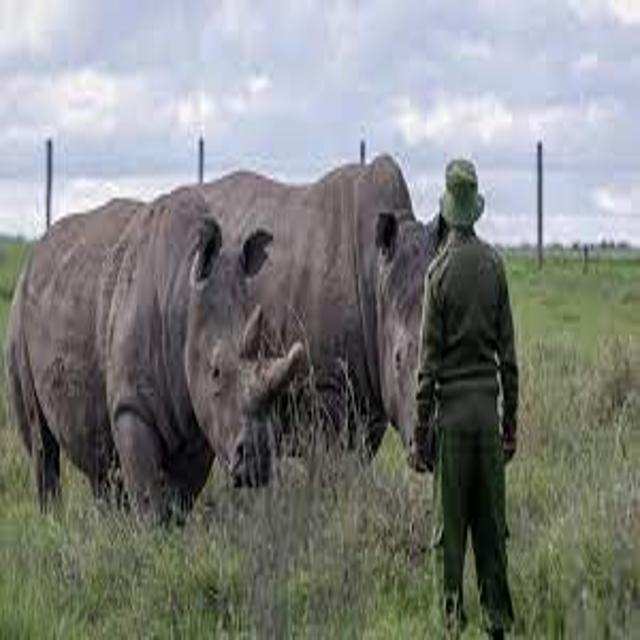ranger: (358, 139, 599, 636)
rhino: (1, 171, 344, 559)
